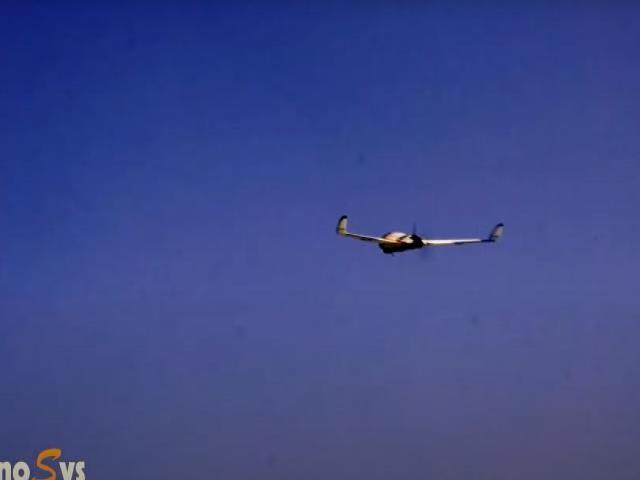iha: (328, 212, 510, 258)
